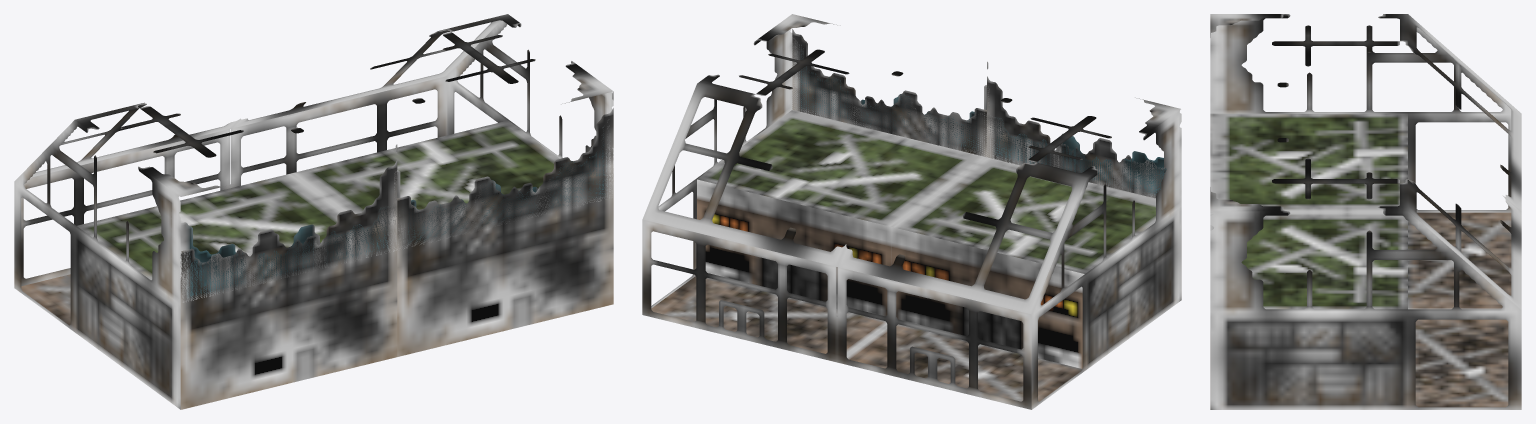
Rendered from lobby_dam.glb.
3 renders of one model, left to right at view 1: azimuth 30°, elevation 25°; view 2: azimuth 150°, elevation 25°; view 3: azimuth 270°, elevation 25°, orthographic. The views are drawn at different scales.
Parts seen in each view (by area): view 1: Lobby; view 2: Lobby; view 3: Lobby.
Boxes of the visible parts, x1=… form: Lobby: x1=14, y1=14, x2=613, y2=409; Lobby: x1=642, y1=14, x2=1181, y2=409; Lobby: x1=1210, y1=14, x2=1521, y2=409.
Bounding box in the file's own units: 25.51 × 11.98 × 17.
1 material, 1 textured.
